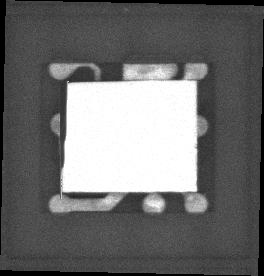DIE_BROKEN: (59, 79, 70, 170)
